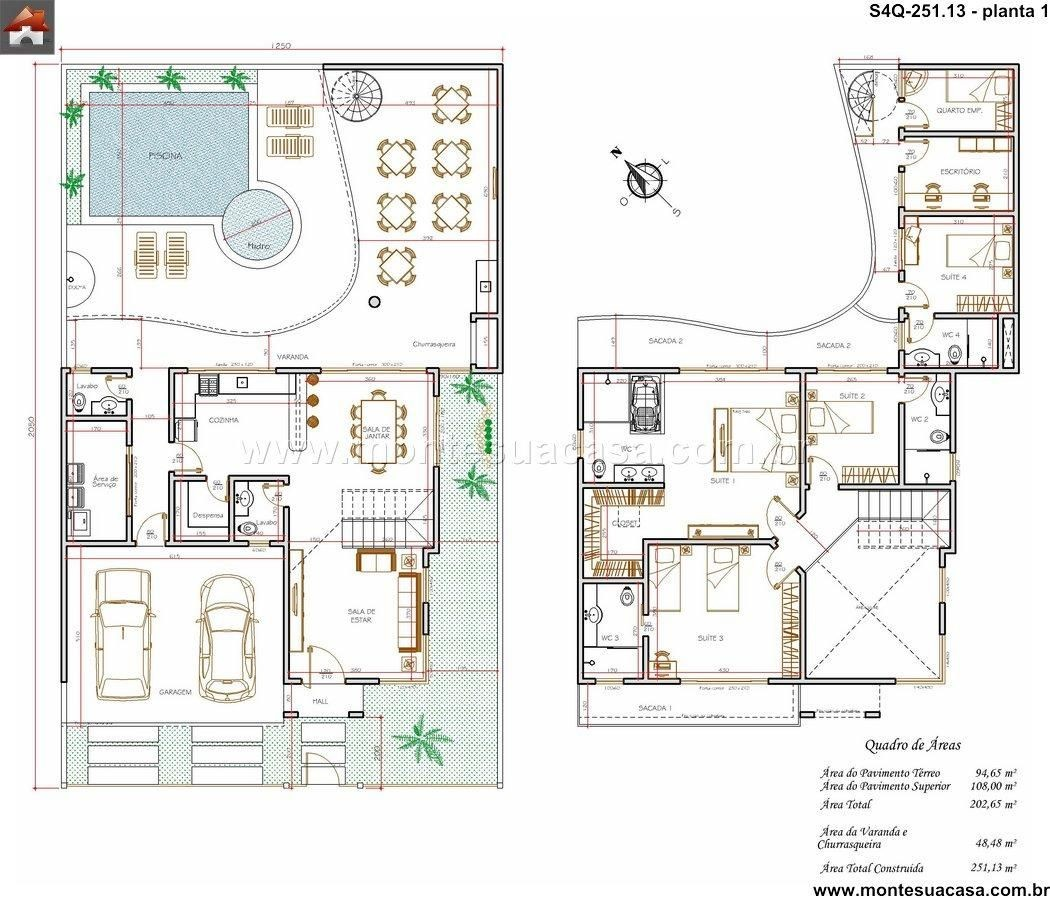door: (304, 645, 348, 683), (752, 493, 796, 531), (750, 552, 794, 590), (175, 439, 206, 473), (806, 452, 840, 483), (134, 510, 168, 539), (202, 479, 231, 504)
room: (577, 366, 803, 543), (642, 537, 805, 686), (283, 548, 429, 685), (800, 368, 905, 490), (578, 578, 649, 683)
